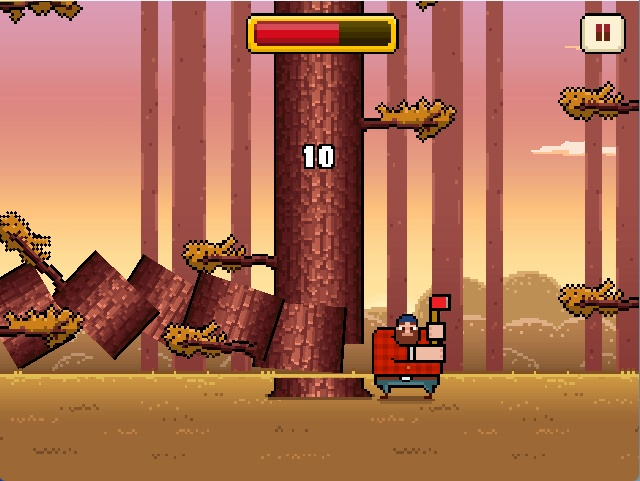timberman: (368, 294, 463, 405), (357, 89, 466, 152)
